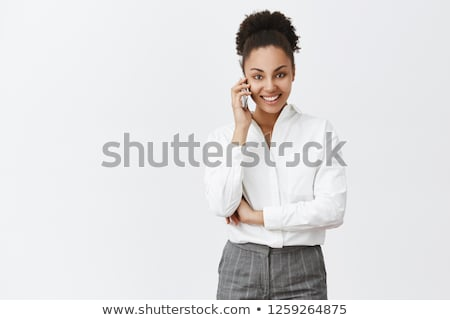phone: (231, 51, 253, 103)
talk: (230, 64, 296, 122)
